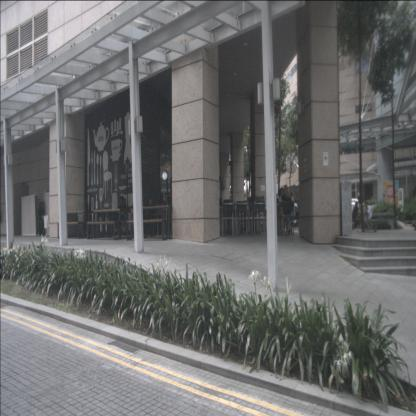human-pedestrian-adult: (281, 185, 293, 236), (113, 196, 127, 236), (277, 187, 287, 232), (363, 201, 372, 231), (351, 202, 360, 230)
